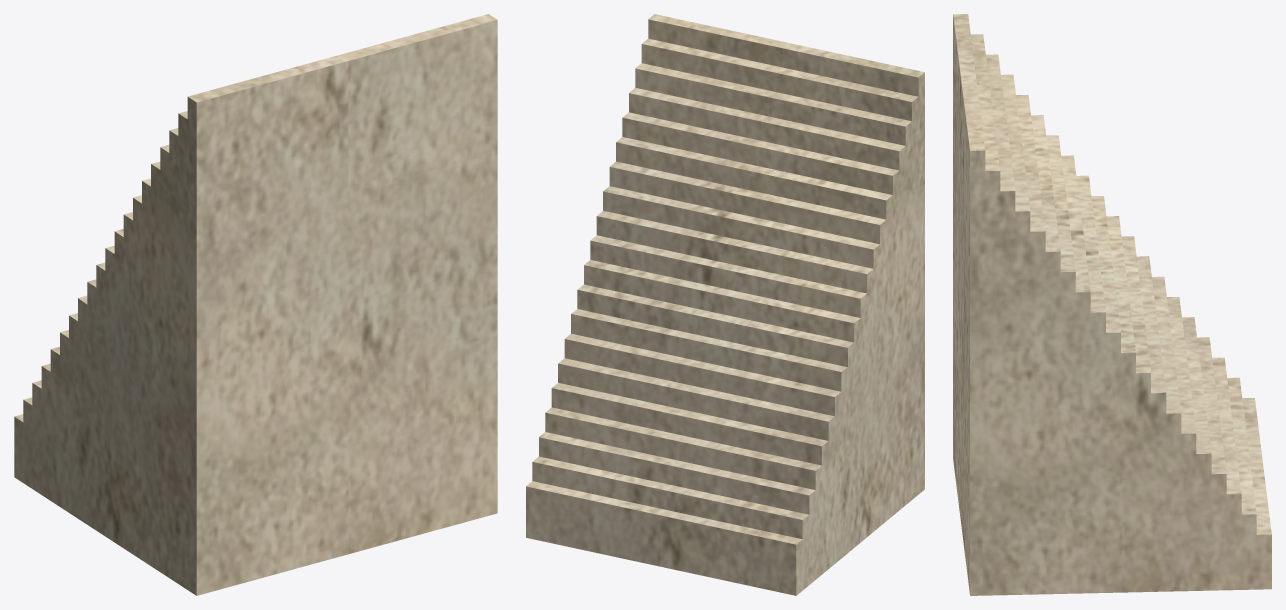
The model's file is concrete_48.fbx.
3 views of the same model, side by side, from view 1: azimuth 30°, elevation 25°; view 2: azimuth 150°, elevation 25°; view 3: azimuth 270°, elevation 25° (orthographic). The views are drawn at different scales.
Parts seen in each view (by area): view 1: concrete_48; view 2: concrete_48; view 3: concrete_48.
Part boxes in pixels (x1,y1,x2,y2): concrete_48: [14, 14, 497, 595]; concrete_48: [526, 14, 924, 595]; concrete_48: [953, 14, 1271, 595].
Size of the model in its own units: 157 by 228 by 148.
